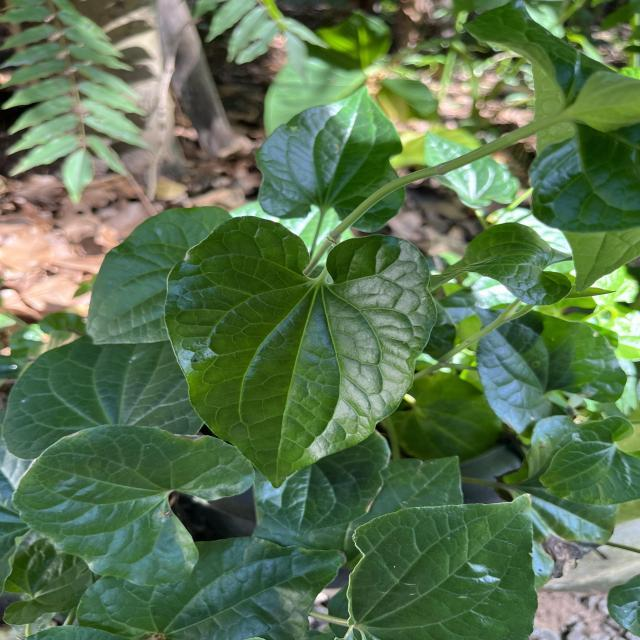Piper longum: (160, 211, 441, 493)
